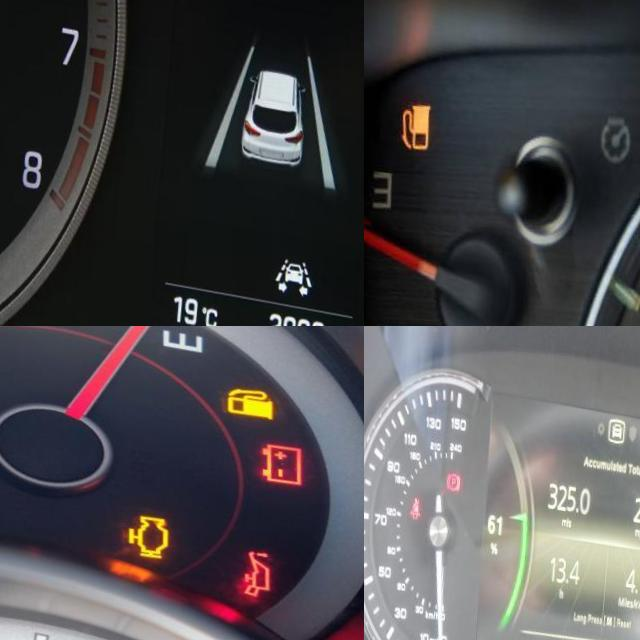Seat Belt: (413, 493, 427, 517)
